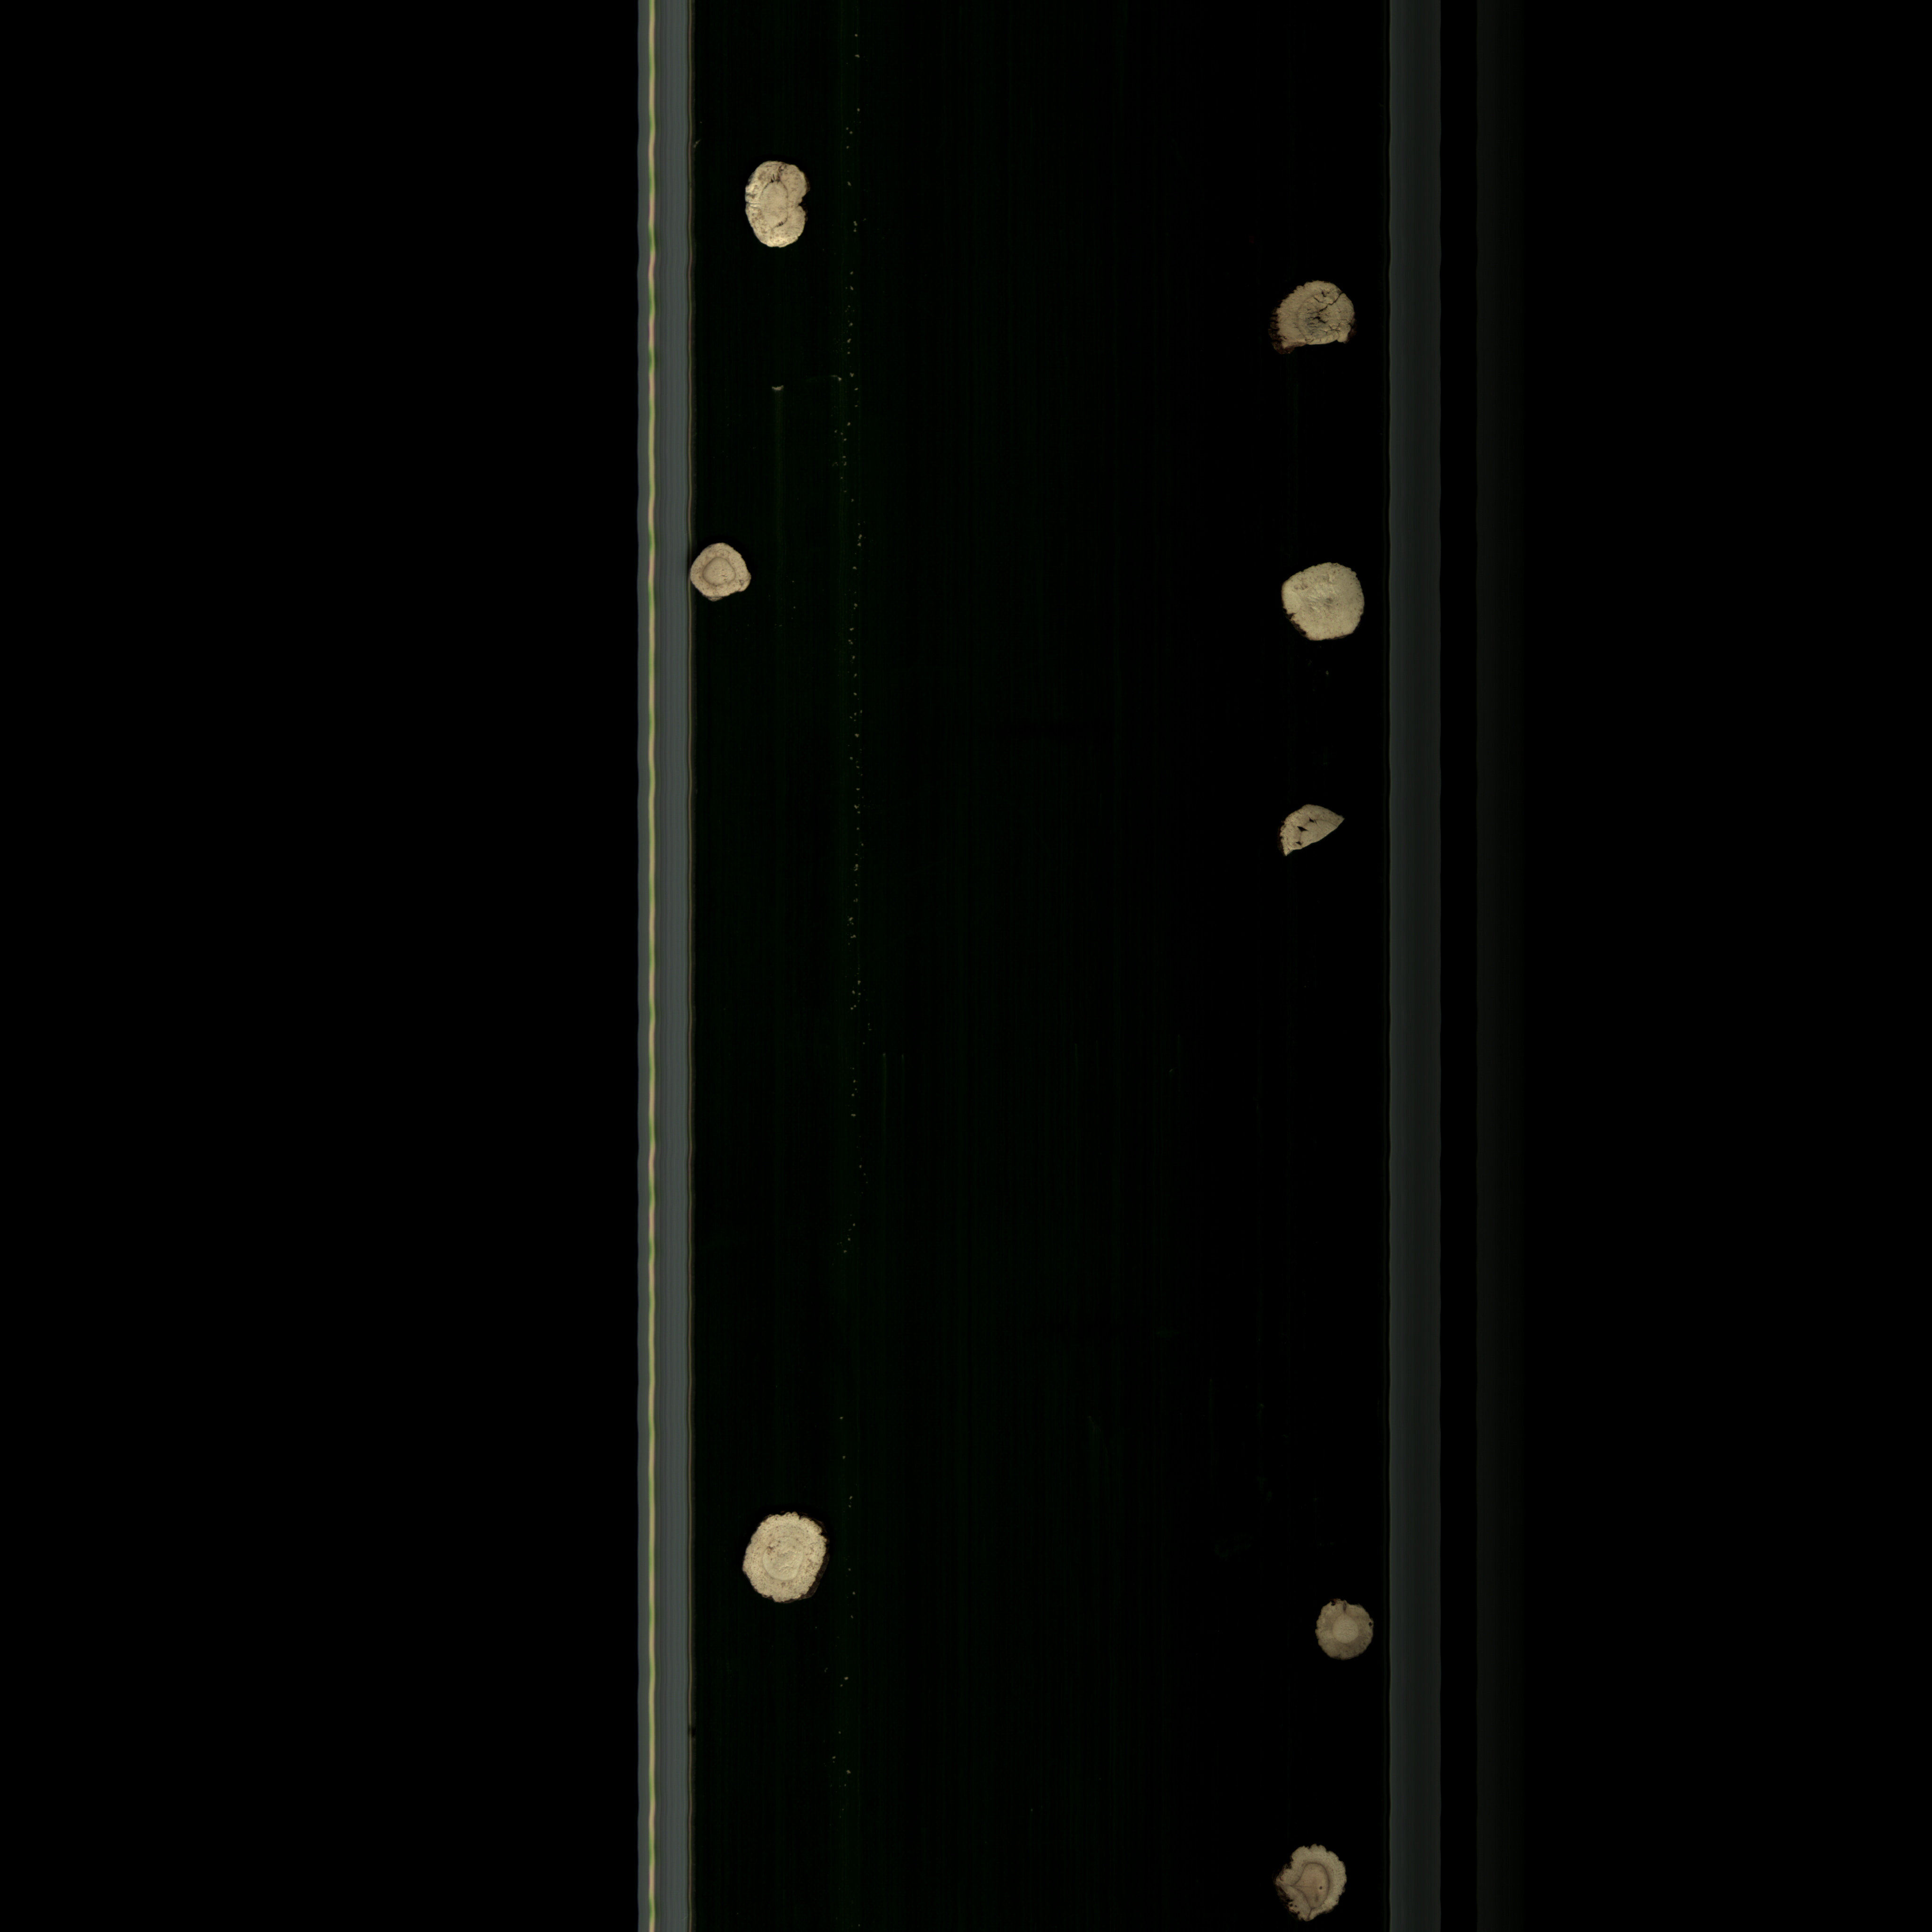debris: (1276, 561, 1378, 669), (1272, 794, 1355, 867)
distortion: (741, 152, 816, 251)
moldy: (1260, 1836, 1362, 1928), (1267, 274, 1355, 364), (1306, 1589, 1380, 1672), (690, 533, 761, 607)
